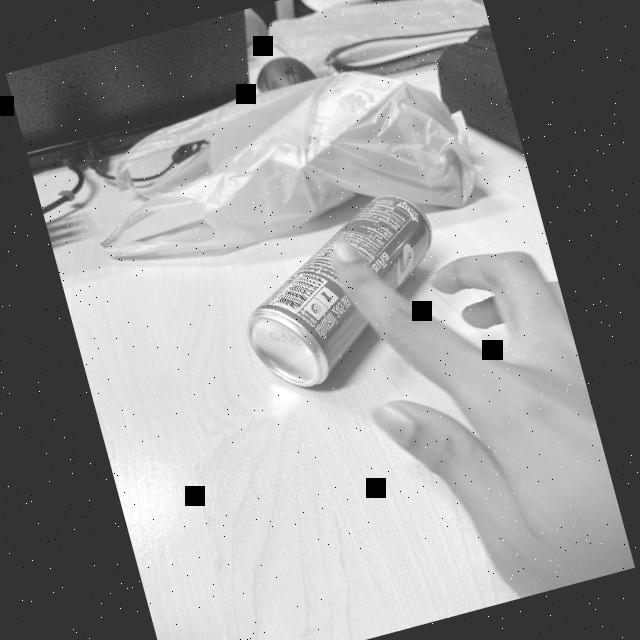can: (207, 171, 468, 410)
